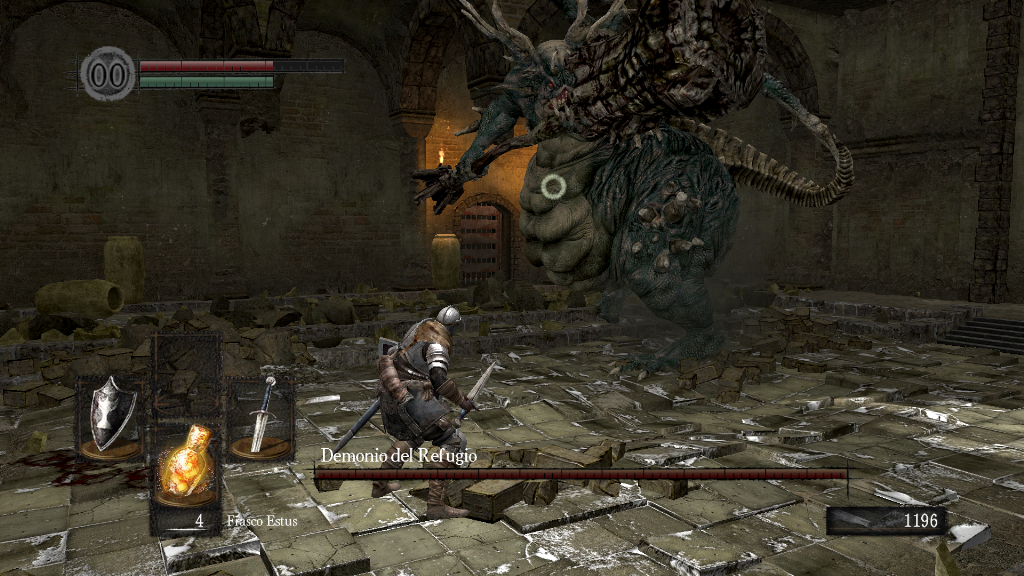asylumDemon: (408, 1, 859, 381)
bossHP: (314, 469, 847, 479)
health: (138, 58, 343, 71)
humanity: (80, 45, 136, 102)
player: (369, 303, 497, 517)
souls: (825, 506, 945, 536)
stamina: (138, 74, 274, 88)
